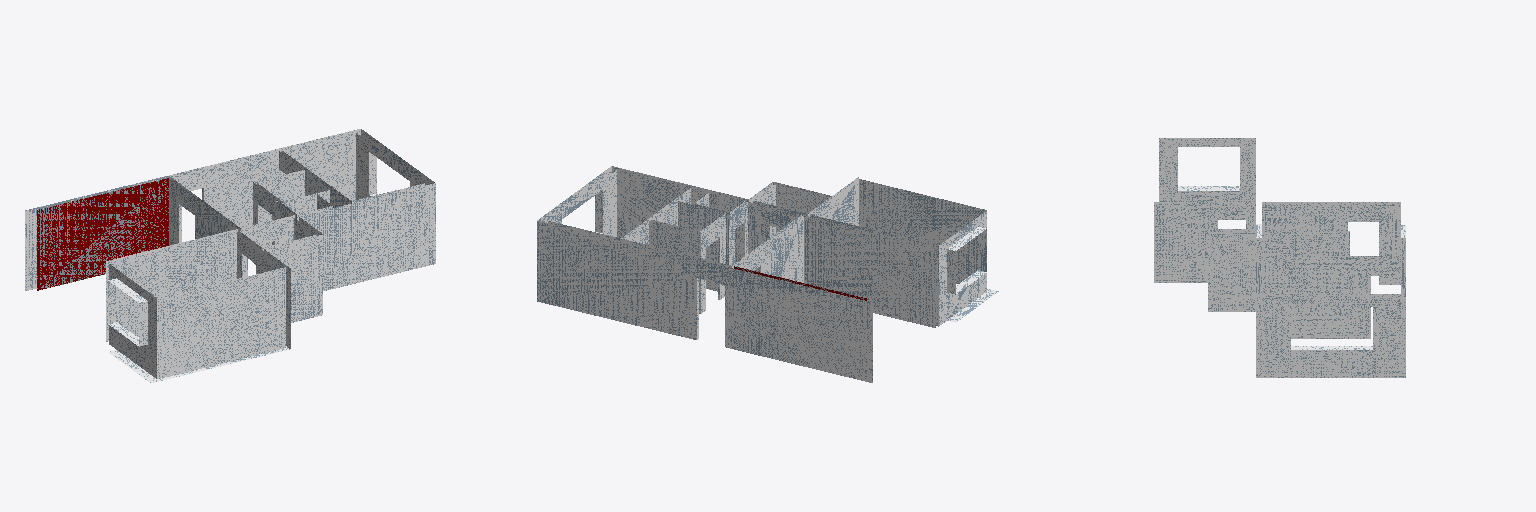
The model's file is Walls.obj.
The picture shows the model from 3 angles: view 1: azimuth 30°, elevation 25°; view 2: azimuth 150°, elevation 25°; view 3: azimuth 270°, elevation 25°; orthographic projection.
Parts seen in each view (by area): view 1: Mesh1 Model; view 2: Mesh1 Model; view 3: Mesh1 Model.
Boxes of the visible parts, x1=… form: Mesh1 Model: x1=25, y1=129, x2=435, y2=382; Mesh1 Model: x1=537, y1=166, x2=998, y2=382; Mesh1 Model: x1=1154, y1=138, x2=1405, y2=377.
Size of the model in its own units: 11.3 by 2.6 by 7.33.